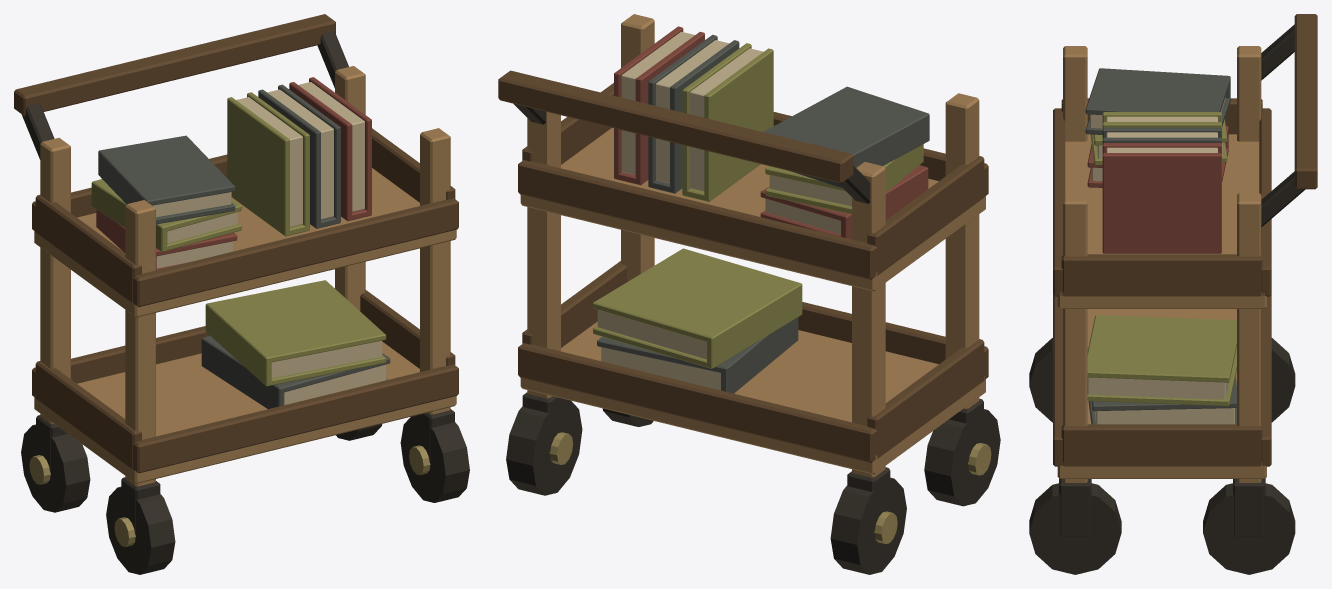
The model's file is Library_BookCart.fbx.
3 renders of one model, left to right at view 1: azimuth 30°, elevation 25°; view 2: azimuth 150°, elevation 25°; view 3: azimuth 270°, elevation 25°, orthographic. The views are drawn at different scales.
Parts seen in each view (by area): view 1: Shelf, Edge_front.001, Edge_front, Push_handle, Upper_cover.007, Shelf.001, Right_front_post, Upper_cover.003, Left_front_post, Upper_cover.002, Left_rear_post, End_left (+37 smaller); view 2: Shelf, Edge_back.001, Edge_back, Push_handle, Upper_cover.007, Shelf.001, Left_front_post, Left_rear_post, Right_rear_post, Upper_cover.002, End_left.001, End_left (+34 smaller); view 3: Lower_cover.005, Upper_cover.007, End_right, End_right.001, Shelf.001, Upper_cover.002, Wheel.003, Wheel.002, Right_front_post, Right_rear_post, Shelf, Push_handle (+25 smaller).
Part boxes in pixels (x1=…): Shelf: x1=34, y1=342, x2=456, y2=483; Edge_front.001: x1=133, y1=198, x2=458, y2=306; Edge_front: x1=133, y1=364, x2=458, y2=473; Push_handle: x1=14, y1=14, x2=335, y2=116; Upper_cover.007: x1=211, y1=280, x2=386, y2=362; Shelf.001: x1=34, y1=168, x2=456, y2=317; Right_front_post: x1=420, y1=128, x2=450, y2=414; Upper_cover.003: x1=227, y1=97, x2=289, y2=235; Left_front_post: x1=125, y1=200, x2=155, y2=486; Upper_cover.002: x1=100, y1=135, x2=235, y2=205; Left_rear_post: x1=40, y1=137, x2=70, y2=424; End_left: x1=35, y1=361, x2=141, y2=469; Shelf: x1=520, y1=321, x2=985, y2=474; Edge_back.001: x1=518, y1=160, x2=877, y2=279; Edge_back: x1=518, y1=343, x2=877, y2=462; Push_handle: x1=498, y1=70, x2=853, y2=183; Upper_cover.007: x1=593, y1=248, x2=796, y2=341; Shelf.001: x1=520, y1=127, x2=985, y2=291; Left_front_post: x1=945, y1=93, x2=979, y2=408; Left_rear_post: x1=852, y1=162, x2=885, y2=477; Right_rear_post: x1=527, y1=111, x2=560, y2=398; Upper_cover.002: x1=763, y1=86, x2=927, y2=154; End_left.001: x1=867, y1=156, x2=984, y2=275; End_left: x1=867, y1=339, x2=984, y2=458; Lower_cover.005: x1=1102, y1=153, x2=1221, y2=252; Upper_cover.007: x1=1087, y1=315, x2=1236, y2=382; End_right: x1=1061, y1=424, x2=1262, y2=466; End_right.001: x1=1061, y1=254, x2=1262, y2=296; Shelf.001: x1=1057, y1=134, x2=1266, y2=308; Upper_cover.002: x1=1085, y1=68, x2=1230, y2=115; Wheel.003: x1=1203, y1=483, x2=1295, y2=574; Wheel.002: x1=1029, y1=483, x2=1121, y2=574; Right_front_post: x1=1063, y1=193, x2=1087, y2=482; Right_rear_post: x1=1237, y1=193, x2=1261, y2=482; Shelf: x1=1057, y1=309, x2=1266, y2=478; Push_handle: x1=1294, y1=14, x2=1317, y2=189.
Bounding box in the file's own units: 1.42 × 1.64 × 1.06.
